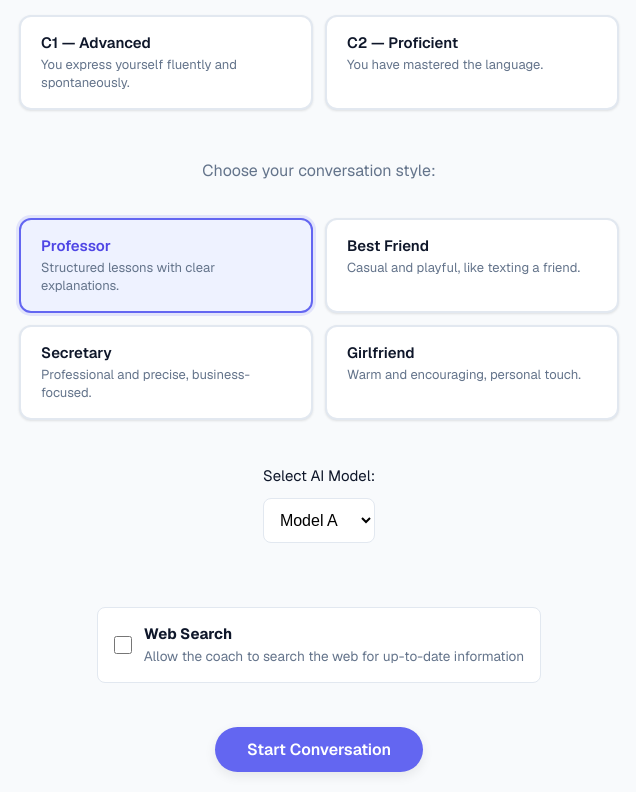
it: LevelSelector › shows error message when conversation creation fails
The width and height of the screenshot is (636, 792).
What coordinates should you click on to do the following:
click the button "Start Conversation"
I would click on:
 (319, 750)
Its box is [215,727,423,772].
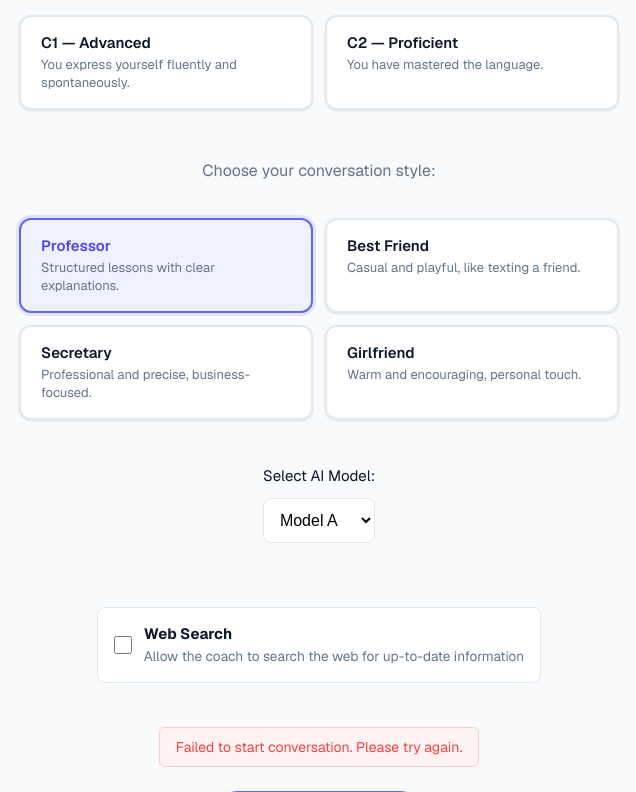
Expected: the text "Failed to start conversation. Please try again." is shown, [159,727,479,767]
